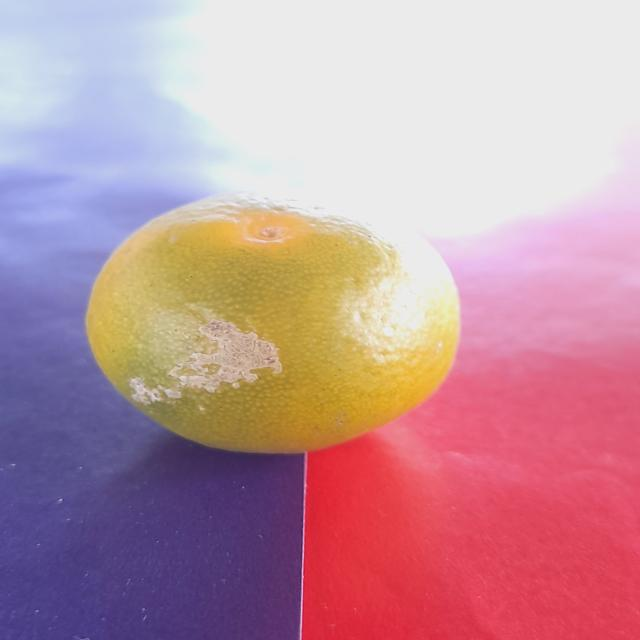thrips: (66, 184, 476, 438)
